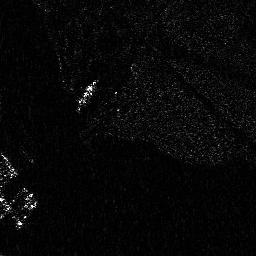ship: (14, 198, 35, 228)
